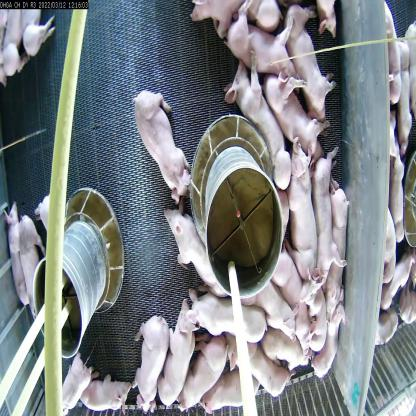Pig: (136, 74, 192, 228), (222, 75, 286, 206), (286, 117, 326, 311), (260, 55, 323, 148), (166, 221, 228, 313), (180, 282, 262, 348), (227, 7, 304, 72), (177, 338, 237, 415), (160, 308, 202, 416), (242, 273, 299, 349), (237, 346, 297, 408), (64, 360, 130, 416), (14, 219, 54, 311), (138, 309, 171, 416), (318, 136, 339, 294), (262, 327, 322, 379), (274, 247, 312, 324), (212, 367, 266, 415), (8, 196, 25, 308)
